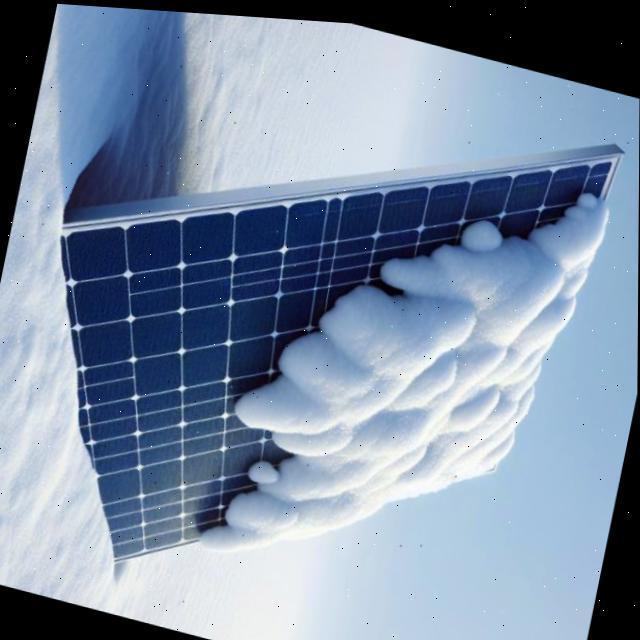Anomaly Solar Panel: (51, 150, 639, 565)
Snow: (134, 129, 639, 638)
